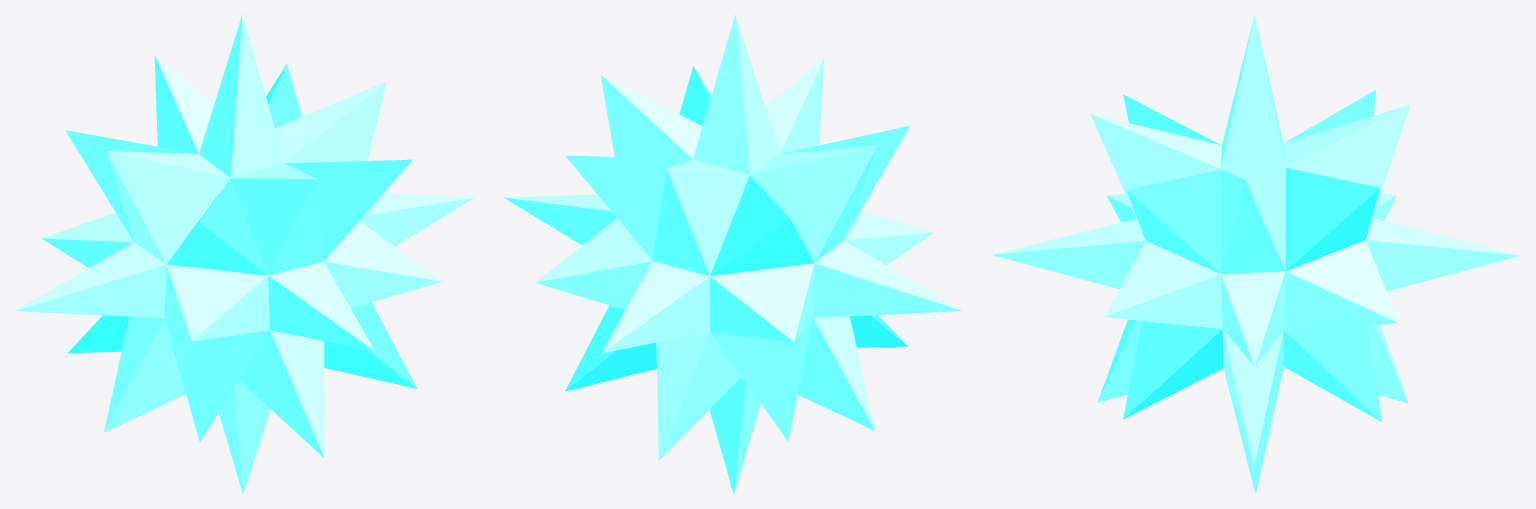
Rendered from Star.glb.
The picture shows the model from 3 angles, left to right: view 1: azimuth 30°, elevation 25°; view 2: azimuth 150°, elevation 25°; view 3: azimuth 270°, elevation 25°; orthographic projection.
Parts seen in each view (by area): view 1: Moravian_Star.002; view 2: Moravian_Star.002; view 3: Moravian_Star.002.
Boxes of the visible parts, x1,y1,x2,y2 form: Moravian_Star.002: (14, 14, 474, 494); Moravian_Star.002: (504, 14, 961, 494); Moravian_Star.002: (992, 14, 1520, 494).
Size of the model in its own units: 1 by 1 by 1.
